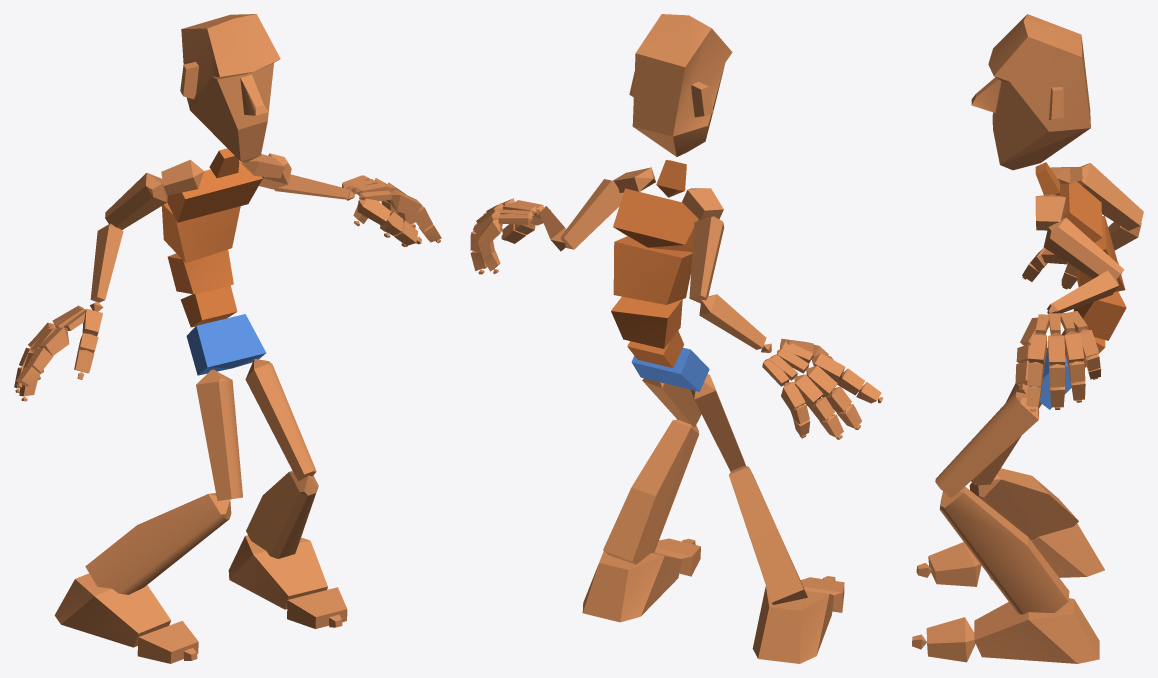
3 renders of one model, left to right at view 1: azimuth 30°, elevation 25°; view 2: azimuth 150°, elevation 25°; view 3: azimuth 270°, elevation 25°, orthographic. The views are drawn at different scales.
Visible parts, largest first — view 1: BOPED_Head, BOPED_R_leg, BOPED_R_foot, BOPED_R_foot01, BOPED_R_legup, BOPED_L_leg, BOPED_L_legup, Bone01, Bone04, Bone05, Bone03, BOPED_R_arm_upper (+8 smaller); view 2: BOPED_Head, BOPED_L_leg, BOPED_R_foot01, BOPED_R_foot, BOPED_R_leg, Bone04, Bone05, Bone03, BOPED_R_arm_upper, BOPED_R_legup, BOPED_L_arm_upper, Bone01 (+9 smaller); view 3: BOPED_Head, BOPED_L_leg, BOPED_R_foot01, BOPED_R_leg, BOPED_L_legup, BOPED_R_foot, BOPED_L_arm_upper, BOPED_R_arm_upper, BOPED_R_foot_toe01, BOPED_R_foot_toe04, Bone05, Bone03 (+14 smaller).
Part boxes in pixels (box(x1,y1,x2,y2)): BOPED_Head: box(180, 14, 280, 162); BOPED_R_leg: box(85, 493, 231, 594); BOPED_R_foot: box(54, 573, 170, 647); BOPED_R_foot01: box(228, 535, 327, 609); BOPED_R_legup: box(196, 369, 242, 500); BOPED_L_leg: box(246, 470, 318, 558); BOPED_L_legup: box(245, 359, 316, 481); Bone01: box(186, 314, 266, 375); Bone04: box(162, 203, 240, 262); Bone05: box(167, 161, 262, 222); Bone03: box(167, 249, 233, 294); BOPED_R_arm_upper: box(105, 172, 167, 229); BOPED_Head: box(629, 14, 732, 156); BOPED_L_leg: box(603, 419, 699, 564); BOPED_R_foot01: box(582, 551, 681, 622); BOPED_R_foot: box(752, 586, 833, 663); BOPED_R_leg: box(729, 466, 807, 604); Bone04: box(613, 236, 692, 304); Bone05: box(613, 188, 699, 251); Bone03: box(611, 296, 682, 348); BOPED_R_arm_upper: box(689, 216, 724, 303); BOPED_R_legup: box(691, 374, 745, 471); BOPED_L_arm_upper: box(560, 179, 623, 249); Bone01: box(631, 347, 709, 391); BOPED_Head: box(971, 14, 1090, 170); BOPED_L_leg: box(939, 486, 1069, 614); BOPED_R_foot01: box(974, 598, 1099, 663); BOPED_R_leg: box(969, 468, 1078, 540); BOPED_L_legup: box(935, 391, 1039, 497); BOPED_R_foot: box(989, 523, 1104, 580); BOPED_L_arm_upper: box(1043, 217, 1124, 279); BOPED_R_arm_upper: box(1077, 163, 1143, 230); BOPED_R_foot_toe01: box(928, 542, 981, 586); BOPED_R_foot_toe04: box(926, 617, 975, 662); Bone05: box(1059, 181, 1102, 242); Bone03: box(1073, 291, 1126, 340).
Bounding box in the file's own units: 130 × 175 × 61.04.
